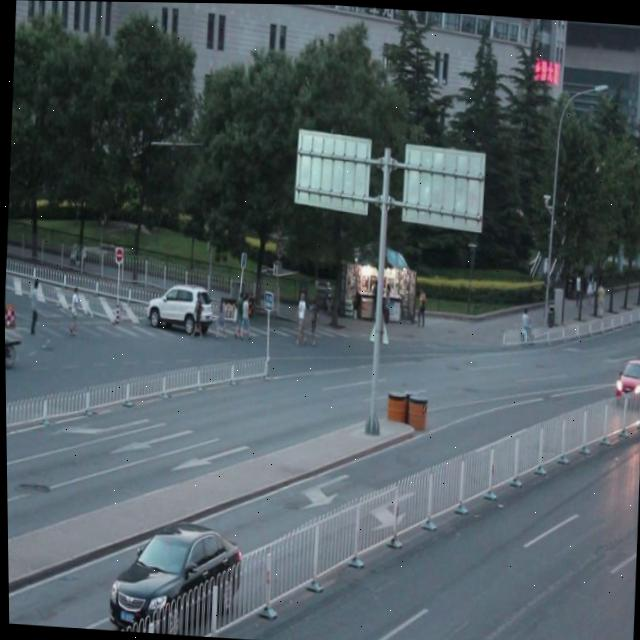car: (106, 519, 240, 631), (146, 281, 213, 334), (610, 349, 640, 405)
